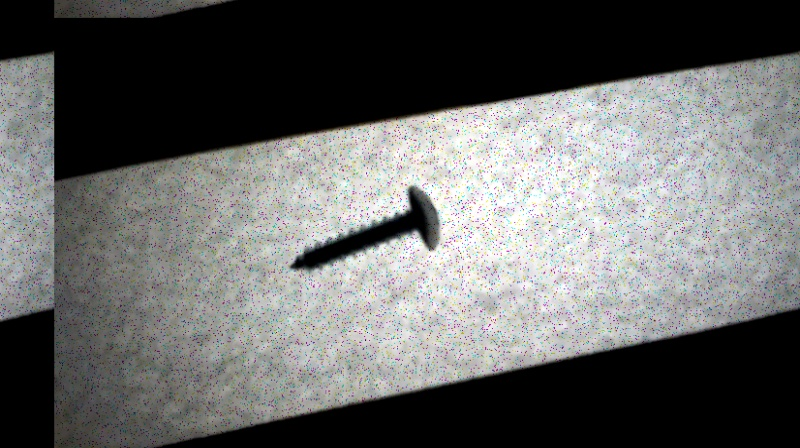S003: (283, 182, 444, 277)
